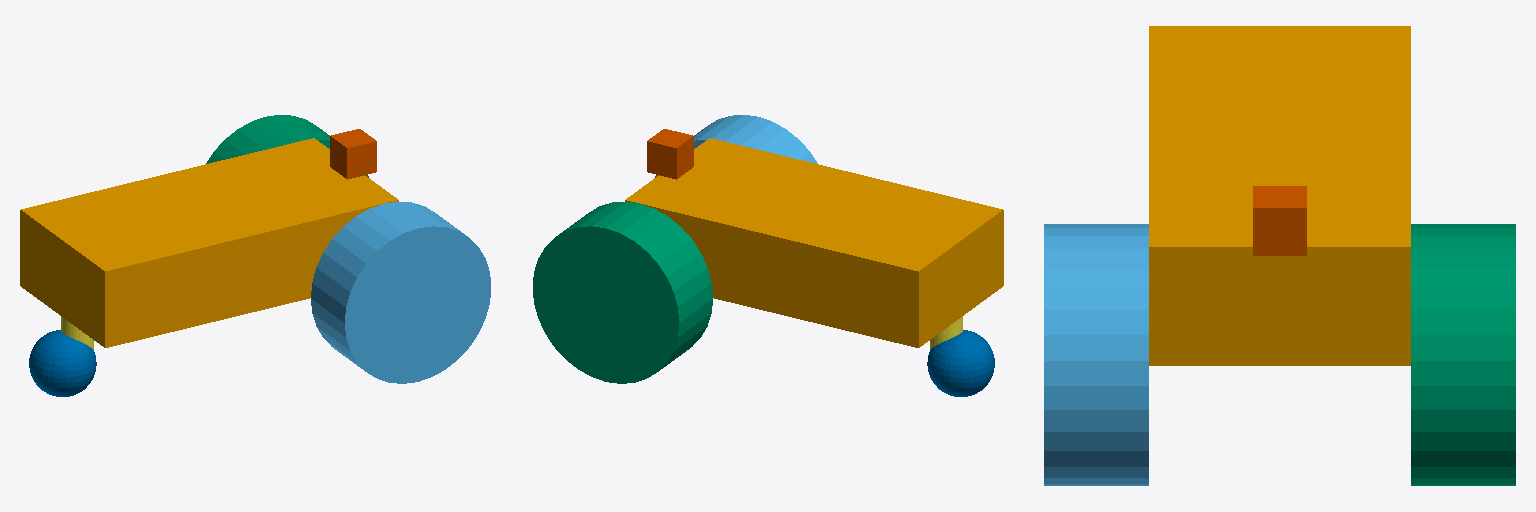
URDF robot description (drivebot):
<?xml version="1.0"?>
<robot name="drivebot">

  <link name="chassis">
    <visual>
      <geometry>
        <box size="1 0.5 0.25"/>
      </geometry>
      <origin rpy="0 0 0" xyz="0 0 0"/>
    </visual>
    <collision>
      <geometry>
        <box size="1 0.5 0.25"/>
      </geometry>
      <origin rpy="0 0 0" xyz="0 0 0"/>
    </collision>
    <inertial>
      <mass value="2"/>
      <inertia ixx="0.0104" ixy="0.0" ixz="0.0" iyy="0.04166" iyz="0.0" izz="0.05208"/>
      <origin rpy="0 0 0" xyz="0 0 0"/>
    </inertial>
  </link>  

  <link name="right_wheel">
    <visual>
      <geometry>
        <cylinder length="0.2" radius="0.25"/>
      </geometry>
      <origin rpy="1.57075 0 0" xyz="0 -0.1 0"/>
    </visual>
    <collision>
      <geometry>
        <cylinder length="0.2" radius="0.25"/>
      </geometry>
      <origin rpy="1.57075 0 0" xyz="0 -0.1 0"/>
    </collision>
    <inertial>
      <mass value="0.25"/>
      <inertia ixx="0.047375" ixy="0.0" ixz="0.0" iyy="0.011844" iyz="0.0" izz="0.0078125"/>
      <origin rpy="1.57075 0 0" xyz="0 -0.1 0"/>
    </inertial>
  </link>

  <link name="left_wheel">
    <visual>
      <geometry>
        <cylinder length="0.2" radius="0.25"/>
      </geometry>
      <origin rpy="1.57075 0 0" xyz="0 0.1 0"/>
    </visual>
    <collision>
      <geometry>
        <cylinder length="0.2" radius="0.25"/>
      </geometry>
      <origin rpy="1.57075 0 0" xyz="0 0.1 0"/>
    </collision>
    <inertial>
      <mass value="0.25"/>
      <inertia ixx="0.047375" ixy="0.0" ixz="0.0" iyy="0.011844" iyz="0.0" izz="0.0078125"/>
      <origin rpy="1.57075 0 0" xyz="0 0.1 0"/>
    </inertial>
  </link>

  <link name="rear_wheel_support">
    <visual>
      <geometry>
        <cylinder length="0.15" radius="0.05"/>
      </geometry>
      <origin rpy="0 0 0" xyz="0 0 -0.075"/>      
    </visual>
    <collision>
      <geometry>
        <cylinder length="0.15" radius="0.05"/>
      </geometry>
      <origin rpy="0 0 0" xyz="0 0 -0.075"/>      
    </collision>
    <inertial>
      <mass value="0.01"/>
      <inertia ixx="0.00003958" ixy="0.0" ixz="0.0" iyy="0.00003958" iyz="0.0" izz="0.0000125"/>
      <origin rpy="0 0 0" xyz="0 0 -0.075"/>       
    </inertial>
  </link>

  <link name="rear_wheel">
    <visual>
      <geometry>
        <sphere radius="0.10"/>
      </geometry>
      <origin rpy="0 0 0" xyz="0 0 0"/>
    </visual>
    <collision>
      <geometry>
        <sphere radius="0.10"/>
      </geometry>
      <origin rpy="0 0 0" xyz="0 0 0"/>      
    </collision>
    <inertial>
      <mass value="0.30"/>
      <inertia ixx="0.005" ixy="0.0" ixz="0.0" iyy="0.005" iyz="0.0" izz="0.005"/>
      <origin rpy="0 0 0" xyz="0 0 0"/>
    </inertial> 
  </link>

  <link name="camera_link">
    <visual>
      <geometry>
        <box size="0.1016 0.1016 0.1016"/>
      </geometry>
      <origin rpy="0 0 0" xyz="0 0 0.0508"/>
    </visual>
    <collision>
      <geometry>
        <box size="0.1016 0.1016 0.1016"/>
      </geometry>
      <origin rpy="0 0 0" xyz="0 0 0.0508"/>
    </collision>
    <inertial>
      <mass value="0.113398093"/>
      <inertia ixx="0.0001950931" ixy="0.0" ixz="0.0" iyy="0.0001950931" iyz="0.0" izz="0.0001950931"/>
      <origin rpy="0 0 0" xyz="0 0 0.0508"/>
    </inertial>
  </link>  


  <joint name="chassis_to_right_wheel" type="continuous">
    <parent link="chassis"/>
    <child link="left_wheel"/>
    <origin rpy="0 0 0" xyz="0.45 0.25 -0.125"/>
    <axis xyz="0 1 0"/>
    <limit effort="100" velocity="100"/>
    <dynamics damping="0.0001"/>
  </joint>

  <joint name="chassis_to_left_wheel" type="continuous">
    <parent link="chassis"/>
    <child link="right_wheel"/>
    <origin rpy="0 0 0" xyz="0.45 -0.25 -0.125"/>
    <axis xyz="0 1 0"/>
    <limit effort="100" velocity="100"/>
    <dynamics damping="0.0001"/>
  </joint>

  <joint name="chassis_to_rear_wheel_support" type="continuous">
    <parent link="chassis"/>
    <child link="rear_wheel_support"/>
    <origin rpy="0 0 0" xyz="-0.45 0 -0.125"/>
    <axis xyz="0 0 1"/>
    <limit effort="100" velocity="100"/>
    <dynamics damping="0.0001"/>
  </joint>

  <joint name="rear_wheel_support_to_rear_wheel" type="continuous">
    <parent link="rear_wheel_support"/>
    <child link="rear_wheel"/>
    <origin rpy="0 0 0" xyz="-0.05 0 -0.15"/>
    <axis xyz="0 1 0"/>
    <limit effort="100" velocity="100"/>
    <dynamics damping="0.0001"/>
  </joint>

  <joint name="chassis_to_camera_link" type="fixed">
    <parent link="chassis"/>
    <child link="camera_link"/>
    <origin rpy="0 0 0" xyz="0.49 0 0.125"/>
  </joint>

  <gazebo reference="chassis">
    <material>Gazebo/Black</material>
  </gazebo>

  <gazebo reference="right_wheel">
    <mu1>1.0</mu1>
    <mu2>1.0</mu2>
    <kp>10000000.0</kp>
    <kd>1.0</kd>
    <material>Gazebo/Orange</material>
  </gazebo>

  <gazebo reference="left_wheel">
    <mu1>1.0</mu1>
    <mu2>1.0</mu2>
    <kp>10000000.0</kp>
    <kd>1.0</kd>
    <material>Gazebo/Orange</material>
  </gazebo>

  <gazebo reference="rear_wheel_support">
    <material>Gazebo/White</material>
  </gazebo>

  <gazebo reference="rear_wheel">
    <mu1>1.0</mu1>
    <mu2>1.0</mu2>
    <kp>10000000.0</kp>
    <kd>1.0</kd>
    <material>Gazebo/Orange</material>
  </gazebo>

  <gazebo reference="camera_link">
    <material>Gazebo/Red</material>
    <sensor type="camera" name="camera1">
      <update_rate>30.0</update_rate>
      <camera name="head">
        <horizontal_fov>1.3962634</horizontal_fov>
        <image>
          <width>800</width>
          <height>800</height>
          <format>R8G8B8</format>
        </image>
        <clip>
          <near>0.02</near>
          <far>300</far>
        </clip>
        <noise>
          <type>gaussian</type>
          <!-- Noise is sampled independently per pixel on each frame.
               That pixel's noise value is added to each of its color
               channels, which at that point lie in the range [0,1]. -->
          <mean>0.0</mean>
          <stddev>0.007</stddev>
        </noise>
      </camera>
      <plugin name="camera_controller" filename="libgazebo_ros_camera.so">
        <alwaysOn>true</alwaysOn>
        <updateRate>0.0</updateRate>
        <cameraName>drivebot/camera1</cameraName>
        <imageTopicName>image_raw</imageTopicName>
        <cameraInfoTopicName>camera_info</cameraInfoTopicName>
        <frameName>camera_link</frameName>
        <hackBaseline>0.07</hackBaseline>
        <distortionK1>0.0</distortionK1>
        <distortionK2>0.0</distortionK2>
        <distortionK3>0.0</distortionK3>
        <distortionT1>0.0</distortionT1>
        <distortionT2>0.0</distortionT2>
      </plugin>
    </sensor>
  </gazebo>

  <gazebo>
    <plugin name="front_wheel_differential_drive_controller" filename="libgazebo_ros_diff_drive.so">
      <legacyMode>true</legacyMode>
      <alwaysOn>true</alwaysOn>
      <updateRate>100</updateRate>
      <leftJoint>chassis_to_left_wheel</leftJoint>
      <rightJoint>chassis_to_right_wheel</rightJoint>
      <wheelSeparation>0.5</wheelSeparation>
      <wheelDiameter>0.25</wheelDiameter>
      <torque>20</torque>
      <commandTopic>cmd_vel</commandTopic>
      <odometryTopic>odom</odometryTopic>
      <odometryFrame>odom</odometryFrame>
      <robotBaseFrame>chassis</robotBaseFrame>
    </plugin>
  </gazebo>

</robot>

--- Facts derived from the render (not from the file) ---
3 views of the same robot in one strip: view 1: azimuth 30°, elevation 25°; view 2: azimuth 150°, elevation 25°; view 3: azimuth 270°, elevation 25° (orthographic).
Robot: drivebot — 6 links, 5 joints (4 continuous, 1 fixed); root link chassis; default pose: all joints at 0.
Visible links, largest first — view 1: chassis, right_wheel, rear_wheel, left_wheel, camera_link; view 2: chassis, left_wheel, rear_wheel, right_wheel, camera_link; view 3: chassis, right_wheel, left_wheel, camera_link.
Boxes of the visible links, x1,y1,x2,y2 form: chassis: [20, 138, 398, 347]; right_wheel: [311, 202, 490, 383]; rear_wheel: [29, 330, 96, 396]; left_wheel: [206, 115, 368, 177]; camera_link: [330, 129, 376, 179]; chassis: [625, 138, 1003, 347]; left_wheel: [533, 202, 712, 383]; rear_wheel: [927, 330, 994, 396]; right_wheel: [655, 115, 817, 177]; camera_link: [647, 129, 693, 179]; chassis: [1149, 26, 1410, 365]; right_wheel: [1044, 224, 1148, 485]; left_wheel: [1411, 224, 1515, 485]; camera_link: [1253, 186, 1306, 255].
Size in the robot's own frame: 1.3 by 0.9 by 0.6016 metres.
Geometry: primitives only (box / cylinder / sphere), no mesh files.